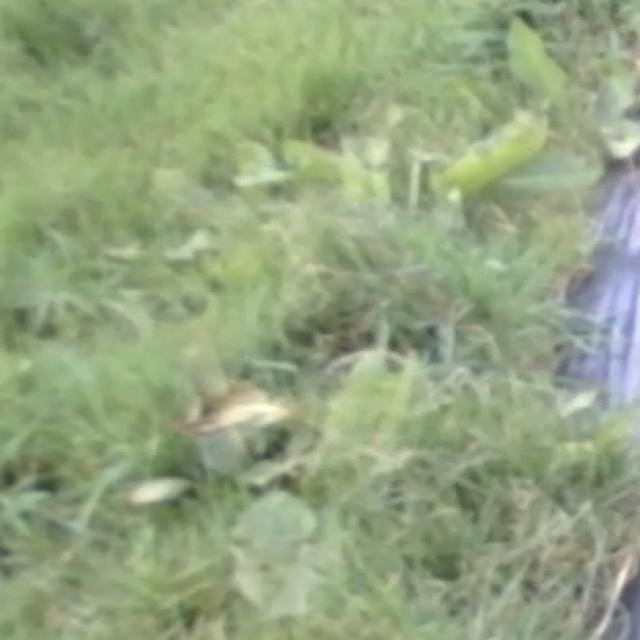organic waste: (146, 364, 421, 612), (425, 39, 640, 217), (113, 124, 287, 290), (219, 100, 462, 215), (403, 111, 588, 208)
